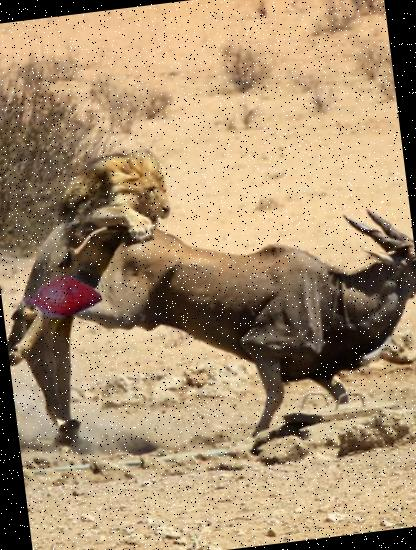Salak: (17, 252, 107, 342)
